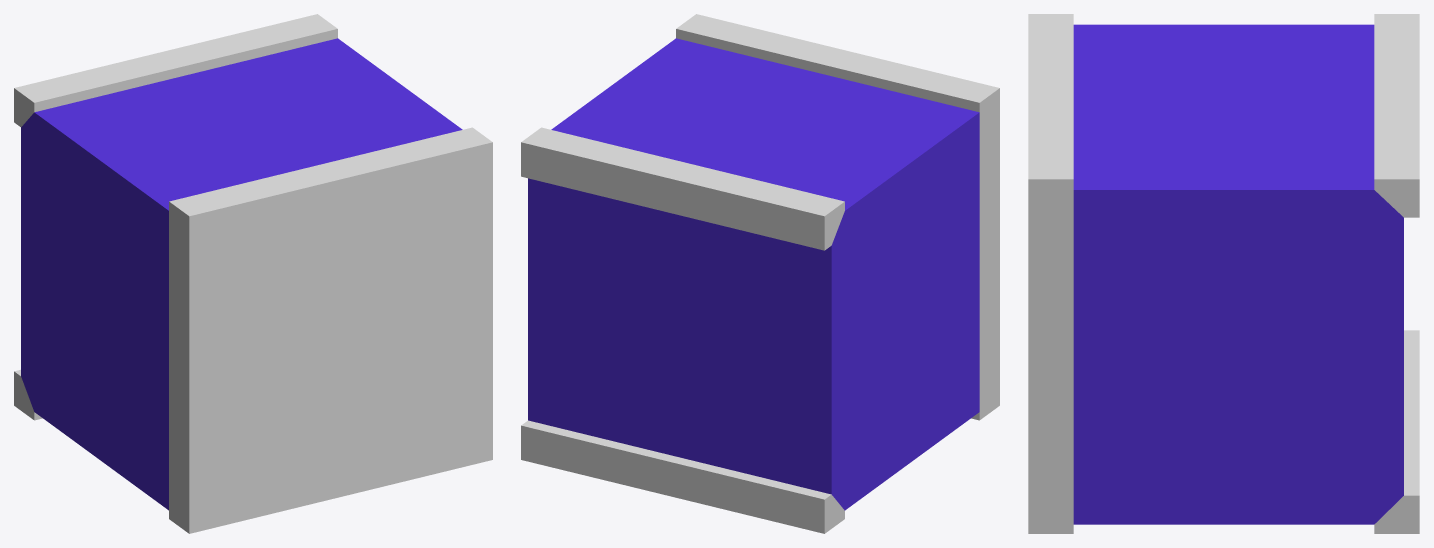
The model's file is Centr_3_full.fbx.
The picture shows the model from 3 angles, left to right: view 1: azimuth 30°, elevation 25°; view 2: azimuth 150°, elevation 25°; view 3: azimuth 270°, elevation 25°; orthographic projection. The views are drawn at different scales.
Parts seen in each view (by area): view 1: STRONG Base Model.448; view 2: STRONG Base Model.448; view 3: STRONG Base Model.448.
Boxes of the visible parts, <box> form: STRONG Base Model.448: <box>14,14,492,533</box>; STRONG Base Model.448: <box>521,14,999,533</box>; STRONG Base Model.448: <box>1028,14,1419,533</box>.
Bounding box in the file's own units: 21.69 × 21.69 × 21.69.
